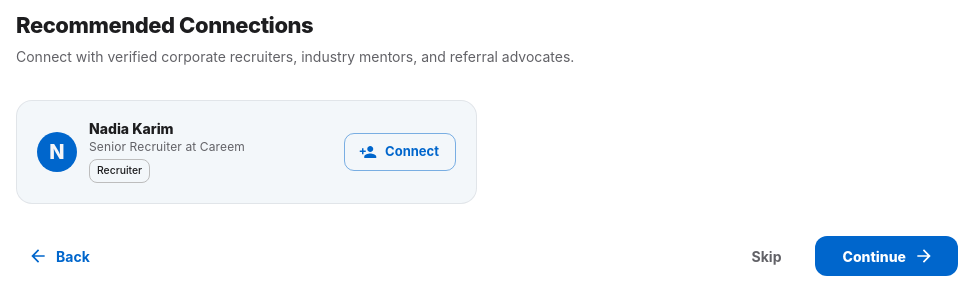
Test: Onboarding & First-Time User Experience Test Suite › ConnectionsStep › renders real connections returned by API and handles connect click
Check: the heading "Nadia Karim" is shown, box [89,120,174,137]
Check: the text "Senior Recruiter at Careem" is shown, box [89,138,245,155]
Click the button "Connect". click: point(400, 152)
box: [344,133,456,171]
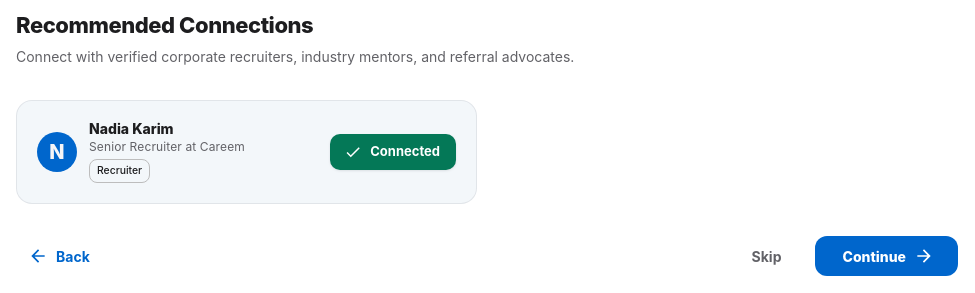
Check: the button "Connected" is shown, box [330,134,456,170]
